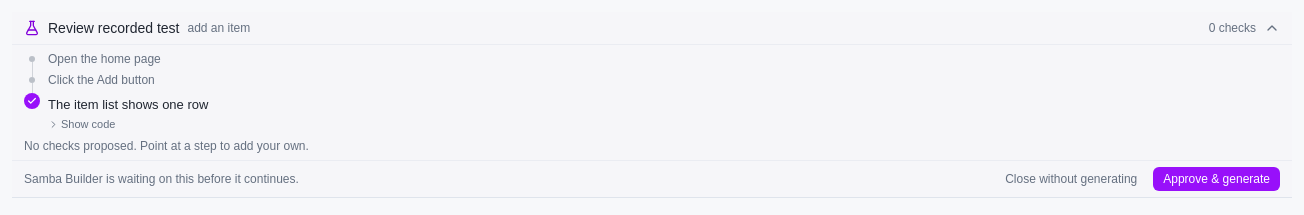
Scenario: TestAssertionsPlanCard › closing the card answers the parked turn with no spec
Click the button with test id "samba-test-assertions-discard-button" at (1071, 178), box [997,166,1145,190]
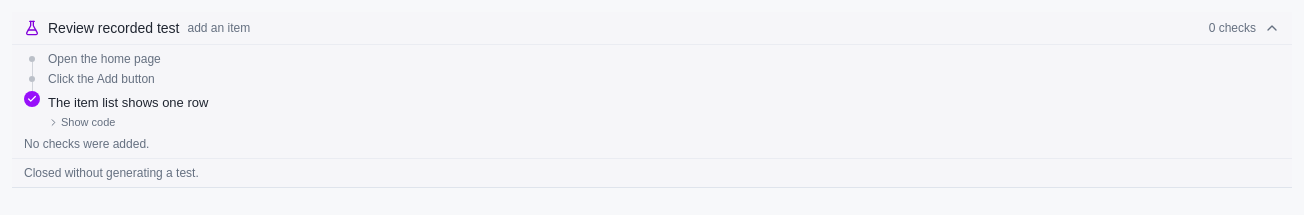
Now the text "Closed without generating a test." is shown, box [24,164,199,180]
